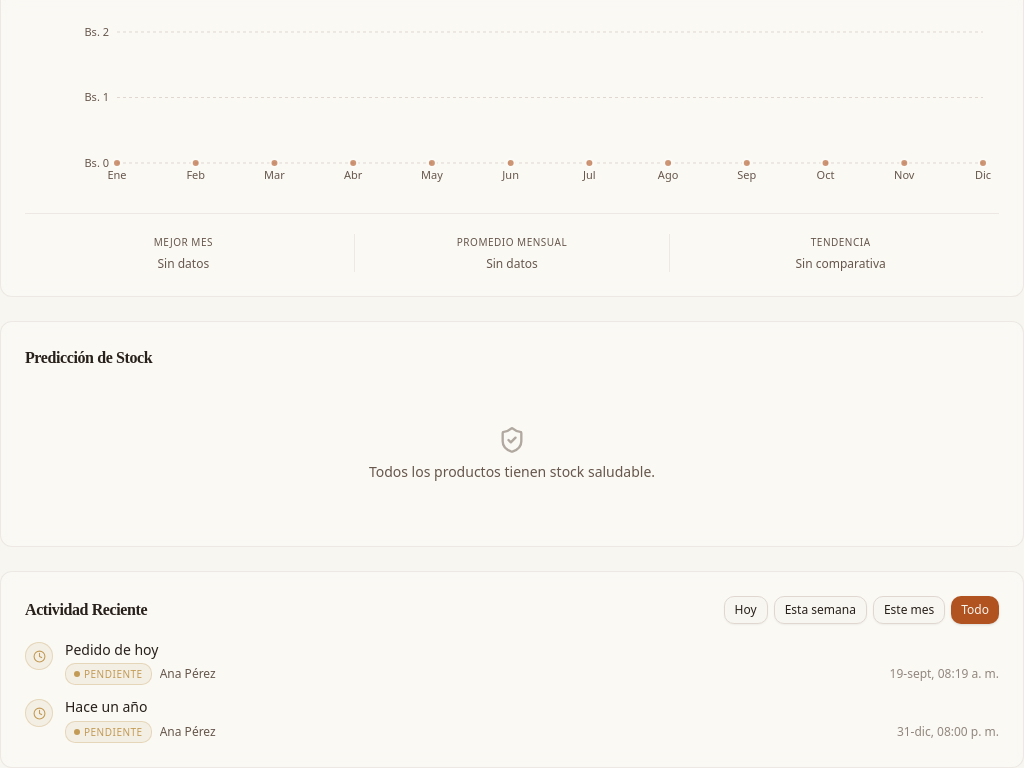
DashboardView — filtro de actividad reciente › el filtro "Hoy" oculta actividad de otros días
(page scrolled)
Expected: the text "Pedido de hoy" is shown, 65,640 -> 158,659
Click the button "Hoy": (746, 610) 724,596 -> 768,624
(page scrolled)
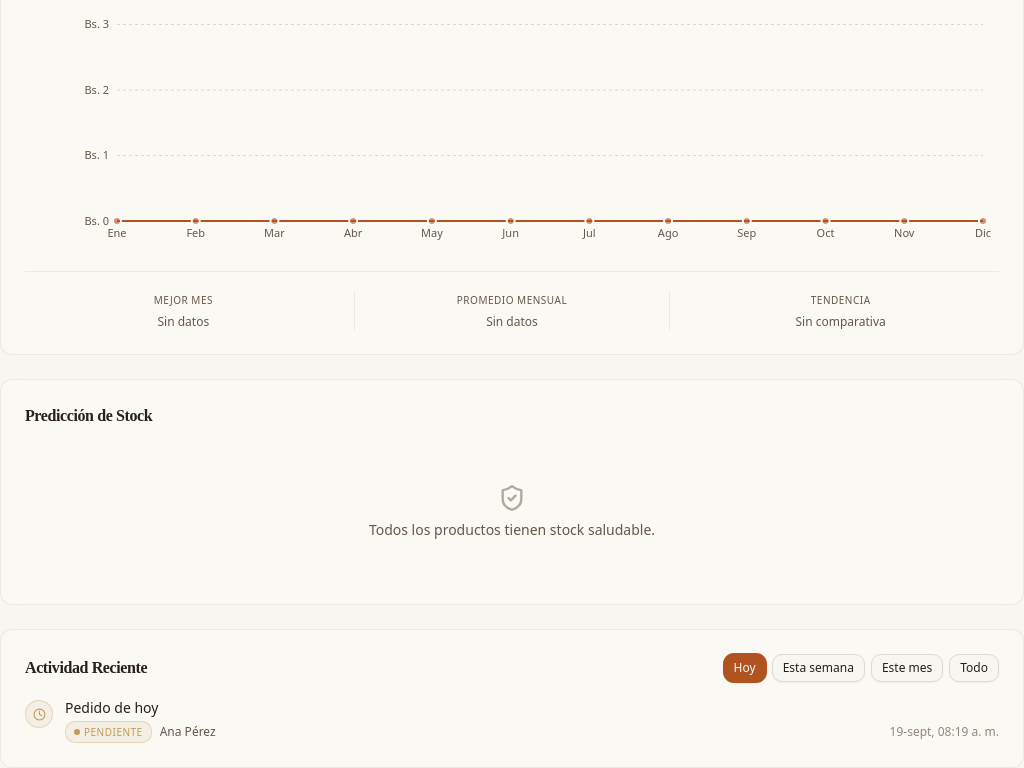
Expected: the text "Pedido de hoy" is shown, 65,698 -> 158,717
Expected: the text "Hace un año" is gone
